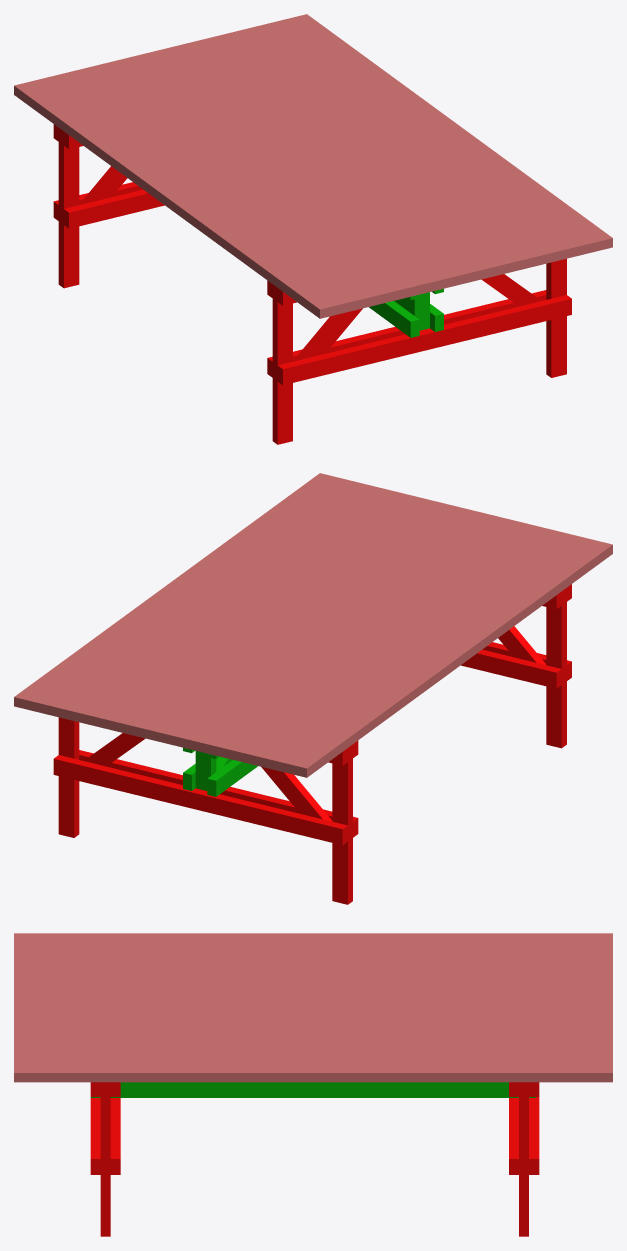
File: result.glb
3 views of the same model, one above another, from view 1: azimuth 30°, elevation 25°; view 2: azimuth 150°, elevation 25°; view 3: azimuth 270°, elevation 25° (orthographic). The views are drawn at different scales.
Visible parts, largest first — view 1: 9dc9a198-4c2b-41c5-96da-f6ad3417640c__Box, 0f771d7d-58af-4ab8-bc91-5e1bb83546ae__sideH, 79a36416-1863-46de-bf03-541a6119c8b7__undefined, 49a71b4c-69ea-44df-b4f5-e6260ad827f9__undefined, 3ca8ac89-81d4-4567-8fdb-04089993b663__undefined, de487795-f610-461e-91af-d705d84cc1a8__undefined, d80e9918-10b9-4bfa-972e-3dece6bc3f13__undefined, ddd671fb-b2ab-447e-b211-f916eb399a02__undefined, 838cbe07-505b-4faf-8244-f08e31db5a73__undefined, 4de26614-df79-4829-bb1d-4524b686b738__undefined, 24e24892-050f-4be5-9b71-2a78e1ff2775__undefined, 569ee0bb-98fb-4dbd-9481-3f08b6fc3e34__undefined (+17 smaller); view 2: 9dc9a198-4c2b-41c5-96da-f6ad3417640c__Box, 21fc508d-53a4-4ad7-9243-321dbd50fd71__undefined, 79a36416-1863-46de-bf03-541a6119c8b7__undefined, fa2de0d6-904f-4910-aeec-43afae8cb7d2__undefined, 3ca8ac89-81d4-4567-8fdb-04089993b663__undefined, 436c8a74-ea41-4f6e-aeb5-84d96e570542__undefined, 4de26614-df79-4829-bb1d-4524b686b738__undefined, 24e24892-050f-4be5-9b71-2a78e1ff2775__undefined, 705bebf6-c597-4df9-9351-07258a3441a3__undefined, d80e9918-10b9-4bfa-972e-3dece6bc3f13__undefined, de487795-f610-461e-91af-d705d84cc1a8__undefined, ddd671fb-b2ab-447e-b211-f916eb399a02__undefined (+18 smaller); view 3: 49c8687e-bd51-46a2-8a1b-1a1f5b8520f6__undefined, 41eed008-9c97-48dc-9f73-8c7c4dfa61c8__strutH, 9dc9a198-4c2b-41c5-96da-f6ad3417640c__Box, 3ca8ac89-81d4-4567-8fdb-04089993b663__undefined, d80e9918-10b9-4bfa-972e-3dece6bc3f13__undefined, de487795-f610-461e-91af-d705d84cc1a8__undefined, 436c8a74-ea41-4f6e-aeb5-84d96e570542__undefined, ddd671fb-b2ab-447e-b211-f916eb399a02__undefined, 838cbe07-505b-4faf-8244-f08e31db5a73__undefined, 4de26614-df79-4829-bb1d-4524b686b738__undefined, 24e24892-050f-4be5-9b71-2a78e1ff2775__undefined, 79a36416-1863-46de-bf03-541a6119c8b7__undefined (+14 smaller).
Part boxes in pixels (x1,y1,x2,y2): 9dc9a198-4c2b-41c5-96da-f6ad3417640c__Box: (14,82,335,318); 0f771d7d-58af-4ab8-bc91-5e1bb83546ae__sideH: (277,295,571,385); 79a36416-1863-46de-bf03-541a6119c8b7__undefined: (153,48,474,284); 49a71b4c-69ea-44df-b4f5-e6260ad827f9__undefined: (199,36,520,273); 3ca8ac89-81d4-4567-8fdb-04089993b663__undefined: (29,78,350,314); de487795-f610-461e-91af-d705d84cc1a8__undefined: (60,70,381,307); d80e9918-10b9-4bfa-972e-3dece6bc3f13__undefined: (45,74,366,311); ddd671fb-b2ab-447e-b211-f916eb399a02__undefined: (91,63,412,299); 838cbe07-505b-4faf-8244-f08e31db5a73__undefined: (107,59,427,295); 4de26614-df79-4829-bb1d-4524b686b738__undefined: (122,55,443,292); 24e24892-050f-4be5-9b71-2a78e1ff2775__undefined: (137,51,458,288); 569ee0bb-98fb-4dbd-9481-3f08b6fc3e34__undefined: (230,29,551,265); 9dc9a198-4c2b-41c5-96da-f6ad3417640c__Box: (291,541,612,777); 21fc508d-53a4-4ad7-9243-321dbd50fd71__undefined: (53,755,347,845); 79a36416-1863-46de-bf03-541a6119c8b7__undefined: (152,507,473,743); fa2de0d6-904f-4910-aeec-43afae8cb7d2__undefined: (29,477,350,713); 3ca8ac89-81d4-4567-8fdb-04089993b663__undefined: (276,537,597,773); 436c8a74-ea41-4f6e-aeb5-84d96e570542__undefined: (230,526,550,762); 4de26614-df79-4829-bb1d-4524b686b738__undefined: (183,514,504,751); 24e24892-050f-4be5-9b71-2a78e1ff2775__undefined: (168,510,489,747); 705bebf6-c597-4df9-9351-07258a3441a3__undefined: (60,484,381,721); d80e9918-10b9-4bfa-972e-3dece6bc3f13__undefined: (260,533,581,770); de487795-f610-461e-91af-d705d84cc1a8__undefined: (245,529,566,766); ddd671fb-b2ab-447e-b211-f916eb399a02__undefined: (214,522,535,758); 49c8687e-bd51-46a2-8a1b-1a1f5b8520f6__undefined: (14,1065,612,1082); 41eed008-9c97-48dc-9f73-8c7c4dfa61c8__strutH: (90,1082,536,1097); 9dc9a198-4c2b-41c5-96da-f6ad3417640c__Box: (14,933,612,940); 3ca8ac89-81d4-4567-8fdb-04089993b663__undefined: (14,940,612,947); d80e9918-10b9-4bfa-972e-3dece6bc3f13__undefined: (14,948,612,955); de487795-f610-461e-91af-d705d84cc1a8__undefined: (14,955,612,962); 436c8a74-ea41-4f6e-aeb5-84d96e570542__undefined: (14,962,612,969); ddd671fb-b2ab-447e-b211-f916eb399a02__undefined: (14,970,612,977); 838cbe07-505b-4faf-8244-f08e31db5a73__undefined: (14,977,612,984); 4de26614-df79-4829-bb1d-4524b686b738__undefined: (14,984,612,991); 24e24892-050f-4be5-9b71-2a78e1ff2775__undefined: (14,992,612,999); 79a36416-1863-46de-bf03-541a6119c8b7__undefined: (14,999,612,1006).
Bounding box in the file's own units: 1216 × 667 × 2200.
